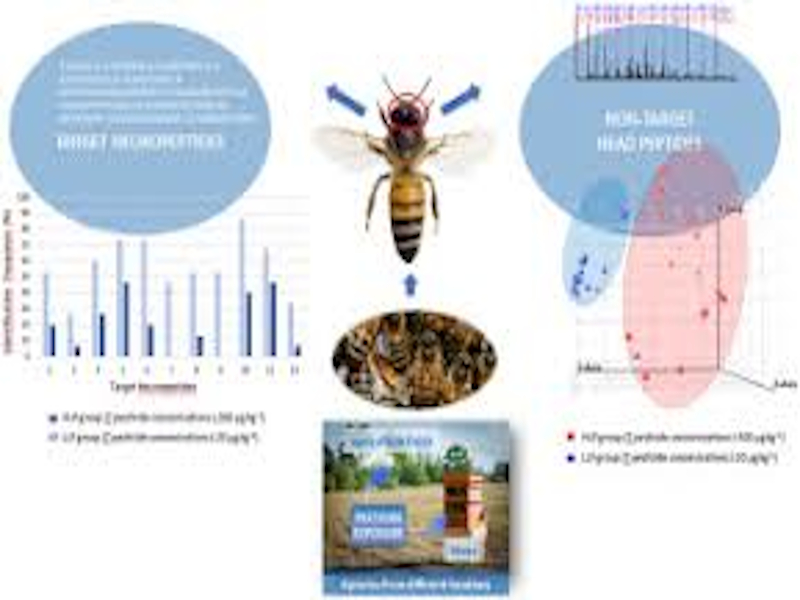abeja: (321, 49, 480, 269)
